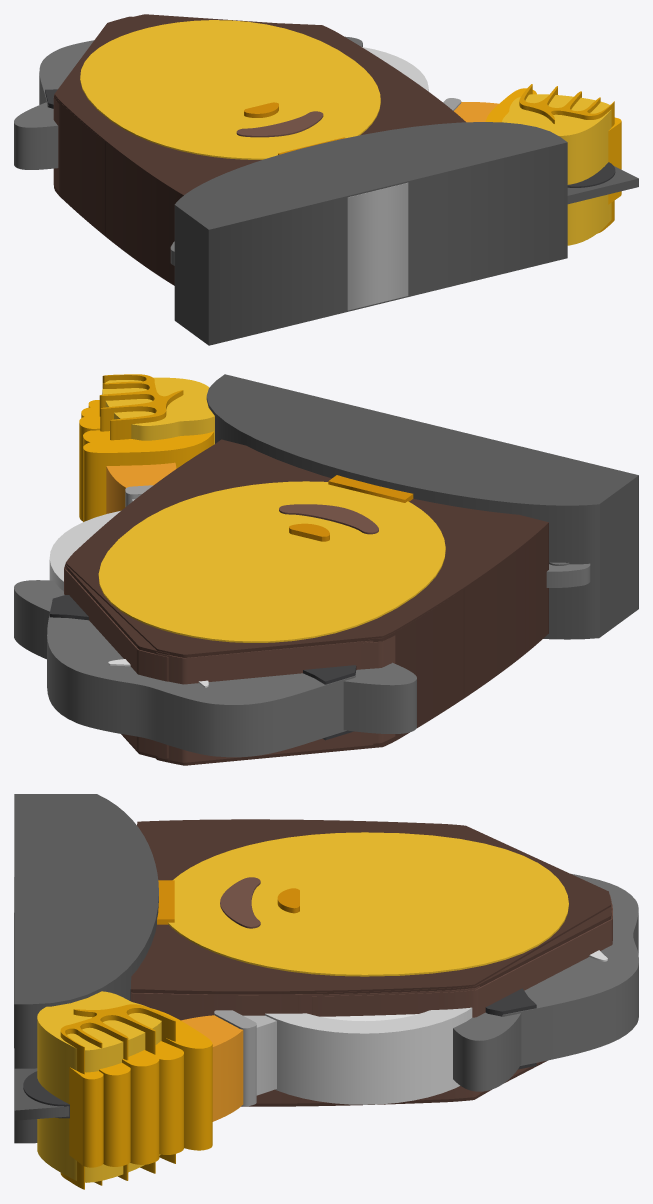
Rendered from emoji_u1f575_200d_2640.glb.
The picture shows the model from 3 angles, top to bottom: view 1: azimuth 30°, elevation 25°; view 2: azimuth 150°, elevation 25°; view 3: azimuth 270°, elevation 25°; orthographic projection. The views are drawn at different scales.
Parts seen in each view (by area): view 1: emoji_u1f575_200d_2640; view 2: emoji_u1f575_200d_2640; view 3: emoji_u1f575_200d_2640.
Part boxes in pixels (bbox=[...]): emoji_u1f575_200d_2640: bbox=[14, 14, 638, 345]; emoji_u1f575_200d_2640: bbox=[14, 374, 638, 765]; emoji_u1f575_200d_2640: bbox=[14, 794, 638, 1189].
Size of the model in its own units: 0.0328 by 0.0084 by 0.0334.
